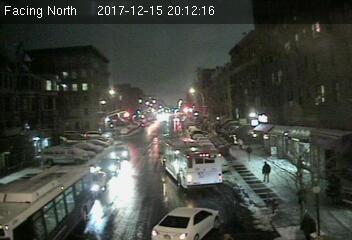bus: (1, 164, 96, 240), (160, 136, 222, 192)
car: (148, 204, 221, 240), (96, 158, 120, 172), (110, 146, 132, 161)
pedestrian: (262, 158, 271, 187)
